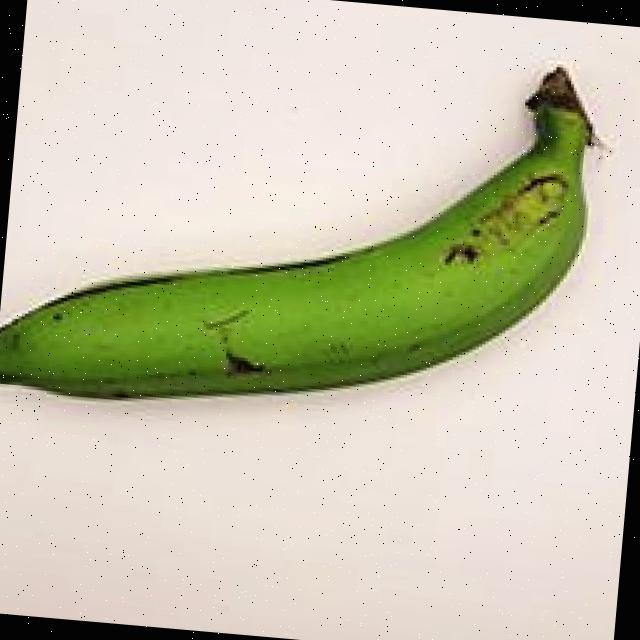Raw: (0, 0, 625, 503)
